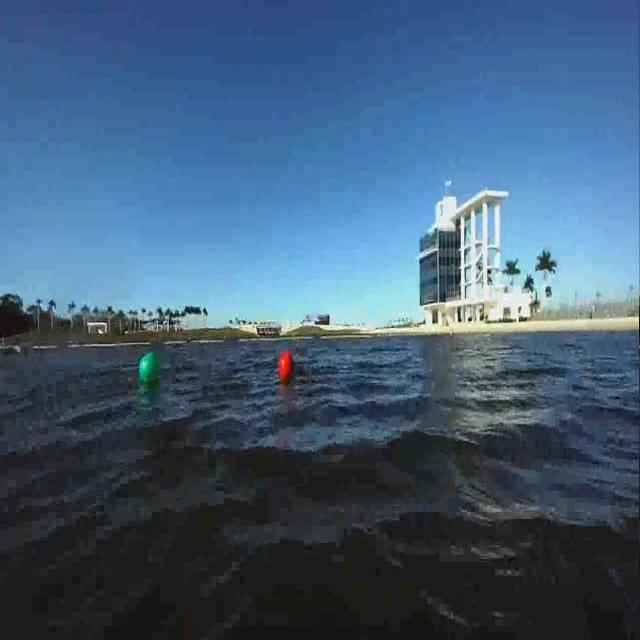green-buoy: (138, 351, 162, 387)
red-buoy: (280, 350, 294, 379)
